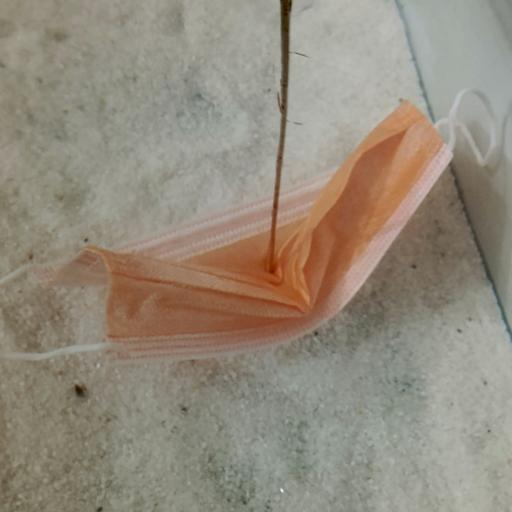mask: (2, 88, 505, 363)
